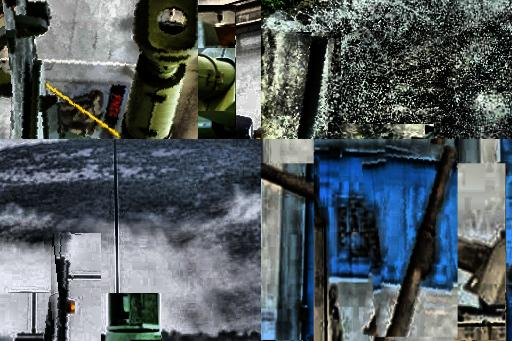tanks: (378, 147, 458, 337), (5, 1, 92, 140), (112, 1, 198, 140), (315, 192, 339, 341), (295, 37, 328, 140), (54, 233, 71, 341)
